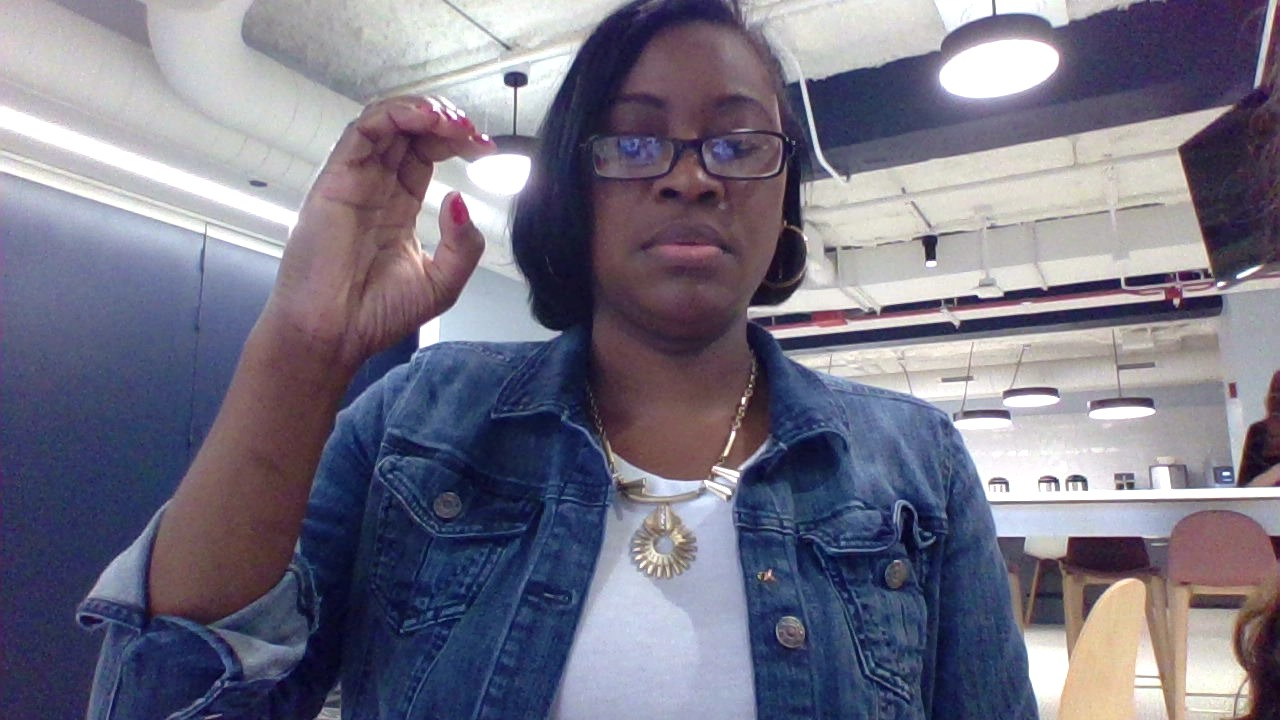c: (256, 82, 511, 385)
